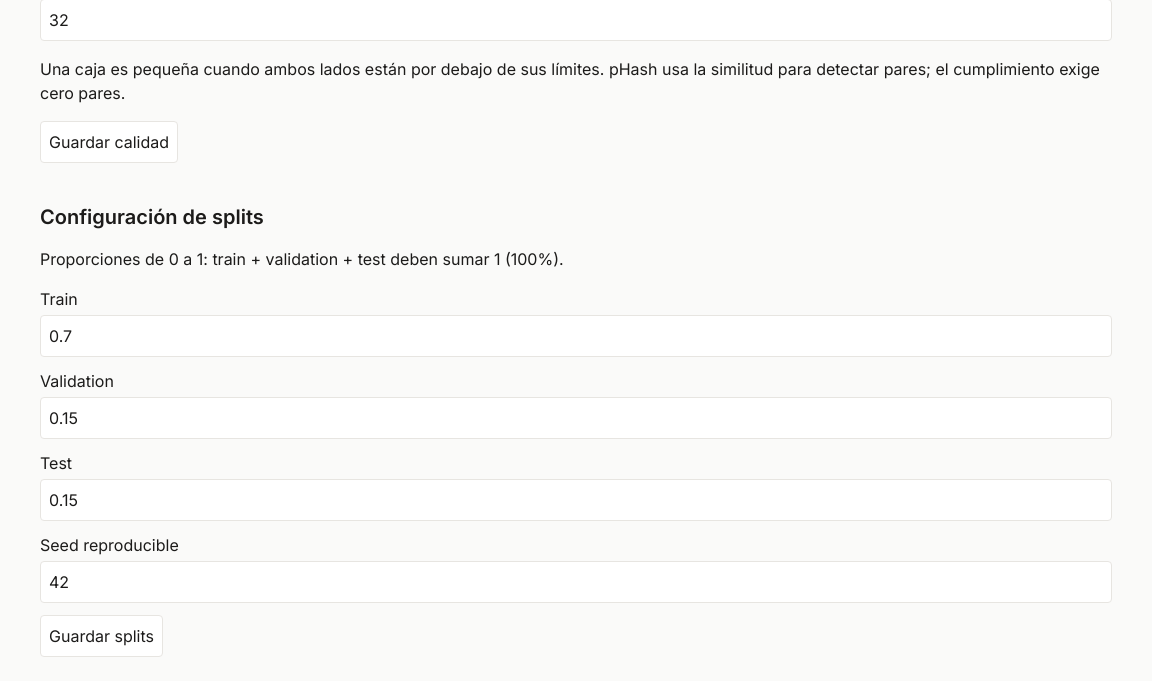
Test: saves only Configuración de splits via its endpoint
(page scrolled)
Replace the text in the number field labelled "Seed reproducible" with "71". click: (576, 582)
box: [40, 561, 1112, 603]
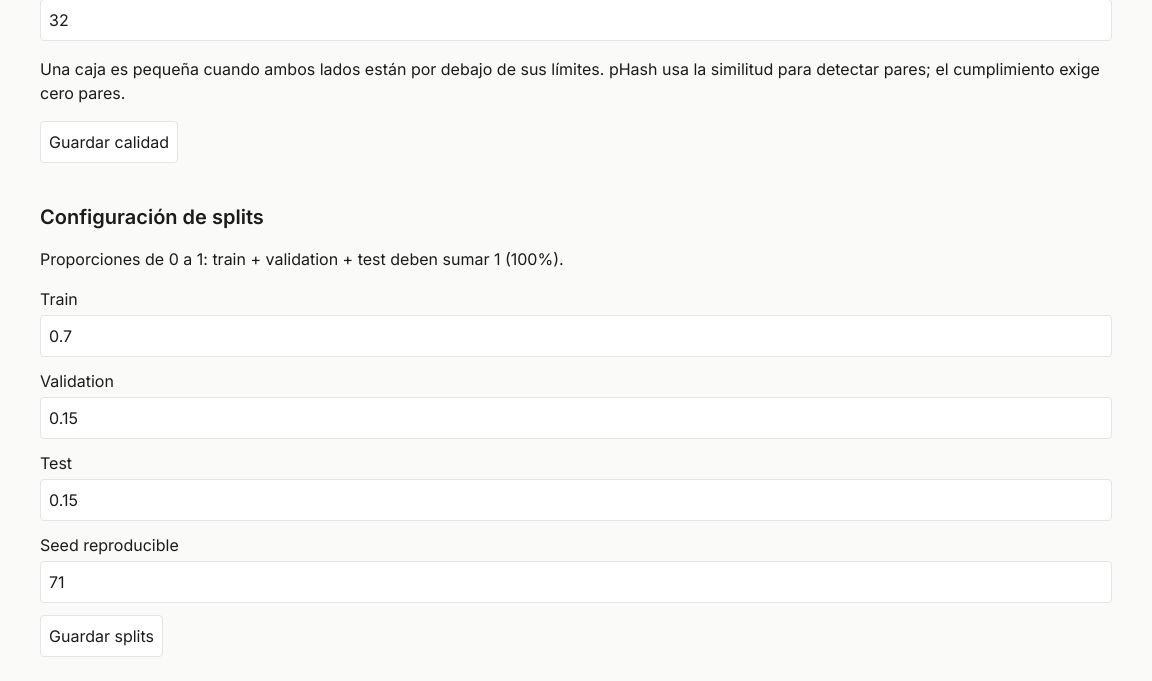
Submit the form "Configuración de splits"
(page scrolled)
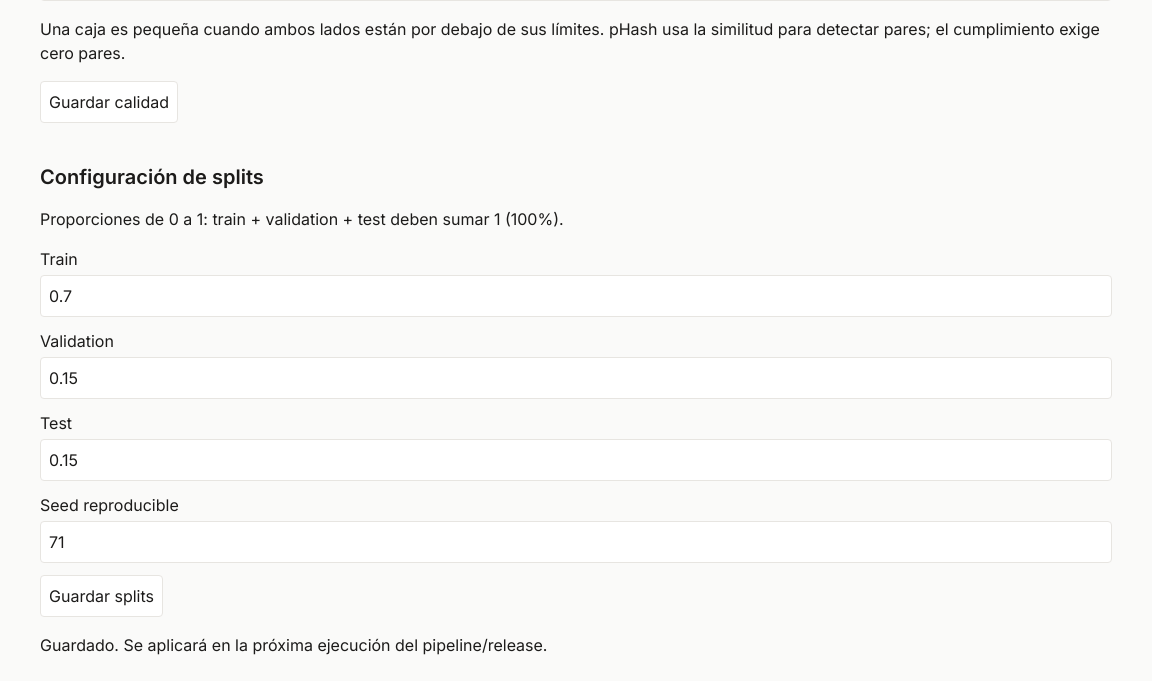
Expected: the message reads "Guardado. Se aplicará en la próxima ejecución del pipeline/release.", [40, 635, 548, 655]
